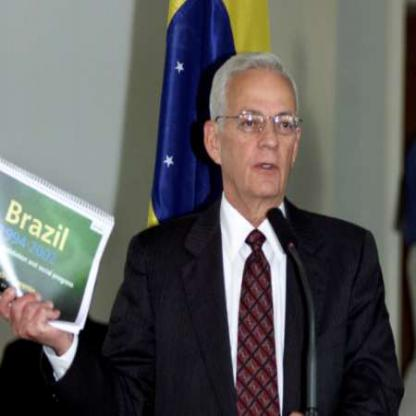face: (220, 56, 302, 204)
